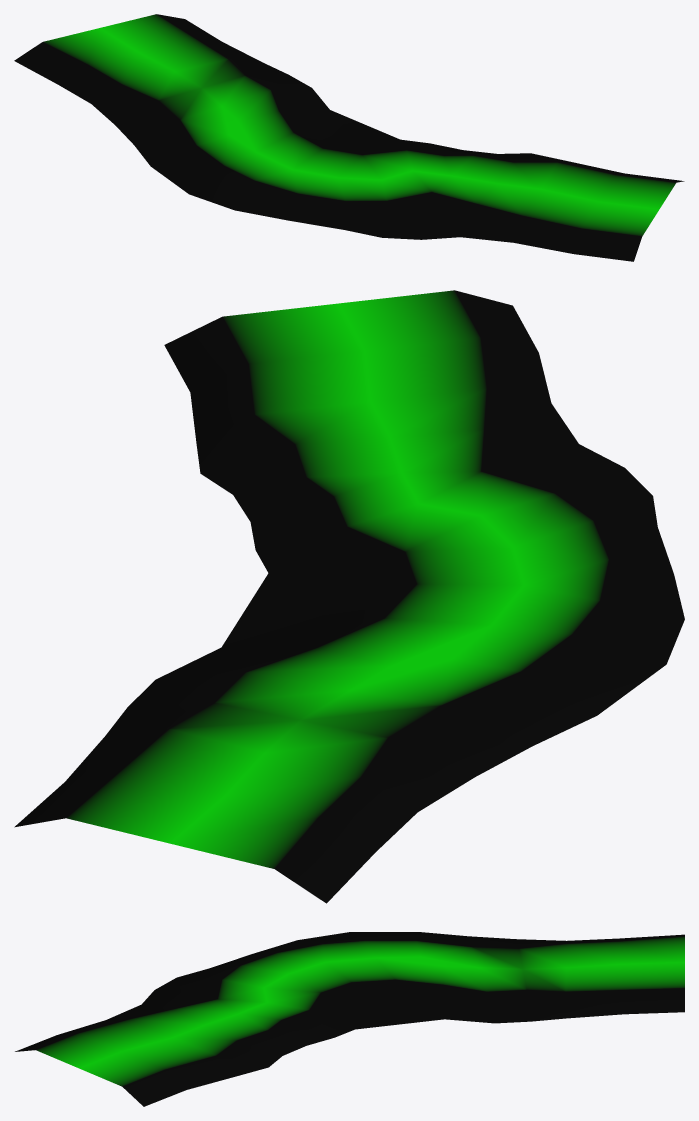
File: Section_WayBend45Angle01_Swamp_Terrain.fbx
The picture shows the model from 3 angles, top to bottom: view 1: azimuth 30°, elevation 25°; view 2: azimuth 150°, elevation 25°; view 3: azimuth 270°, elevation 25°; orthographic projection. The views are drawn at different scales.
Visible parts, largest first — view 1: Section_WayBend45Angle01_Swamp_Terrain; view 2: Section_WayBend45Angle01_Swamp_Terrain; view 3: Section_WayBend45Angle01_Swamp_Terrain.
Part boxes in pixels (x1,y1,x2,y2): Section_WayBend45Angle01_Swamp_Terrain: [14, 14, 684, 261]; Section_WayBend45Angle01_Swamp_Terrain: [14, 290, 684, 903]; Section_WayBend45Angle01_Swamp_Terrain: [15, 932, 684, 1106].
Bounding box in the file's own units: 3381 × 100 × 5480.
